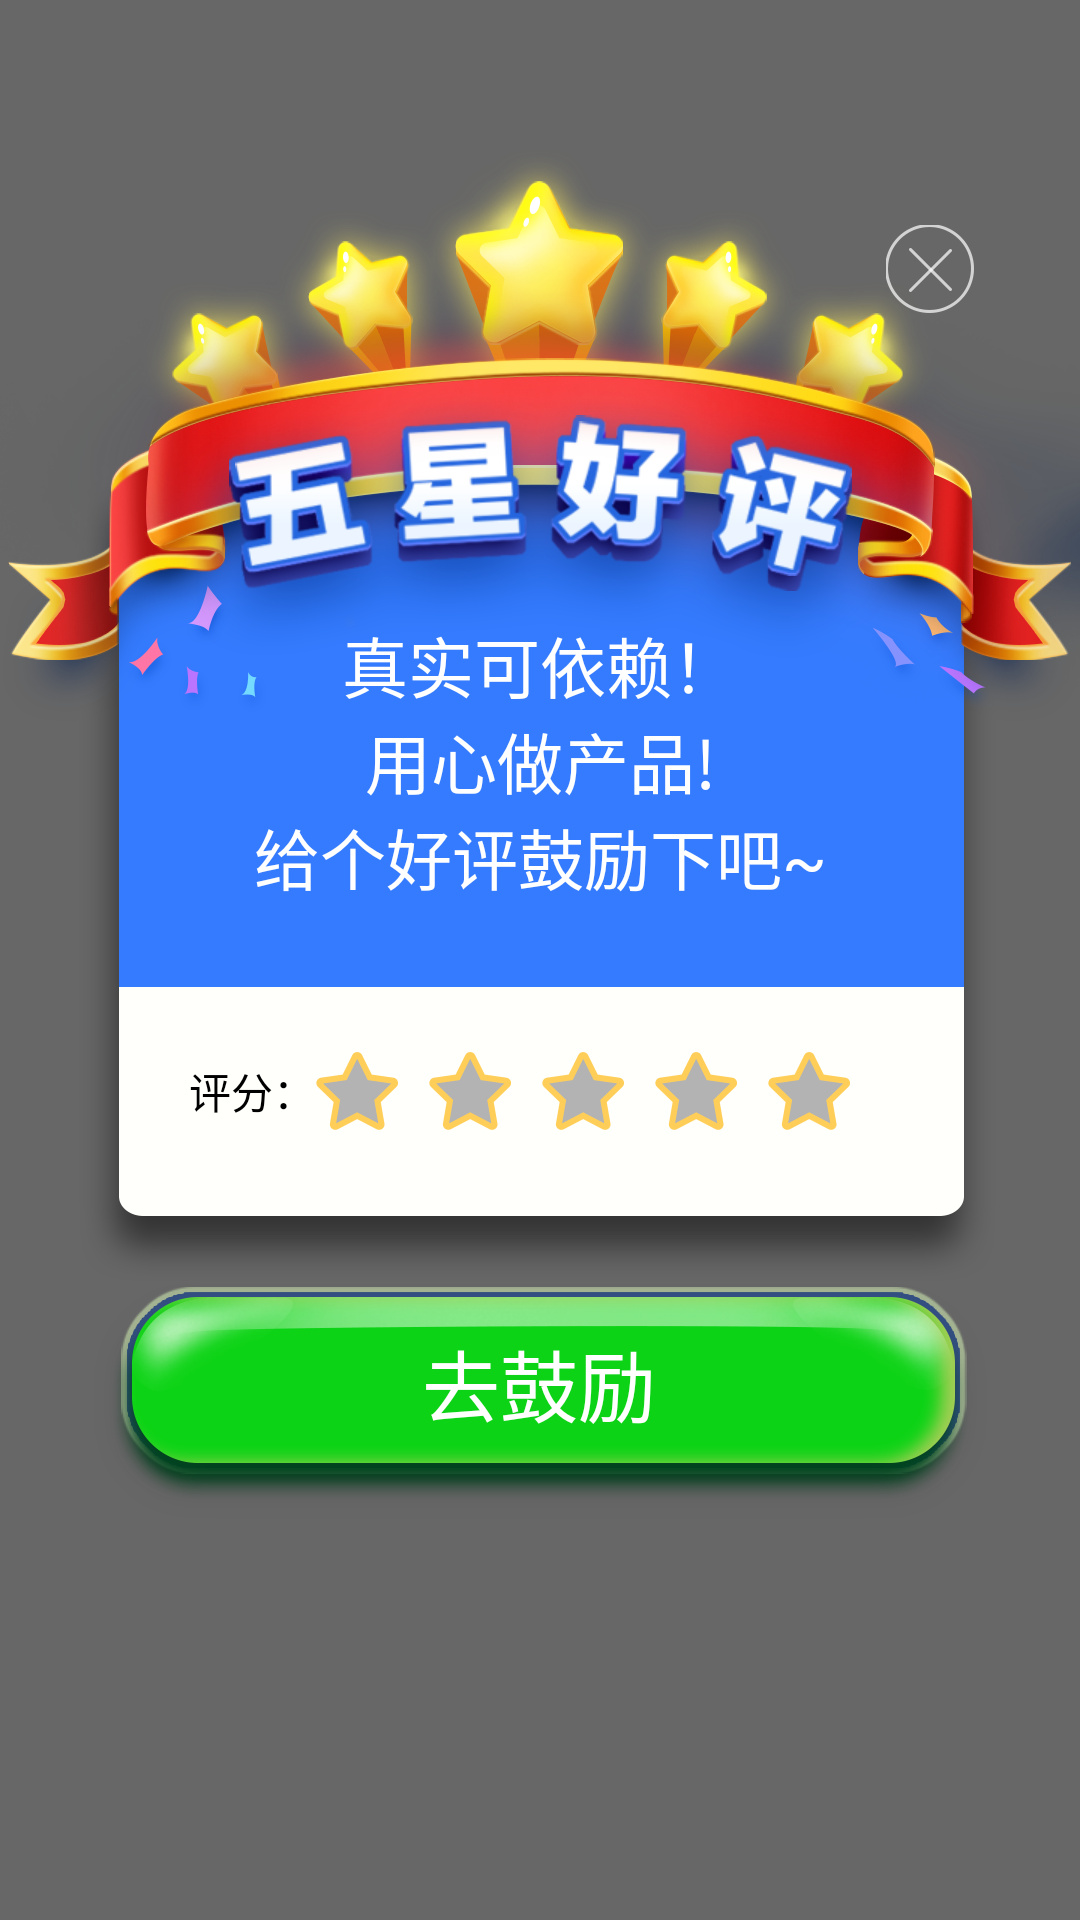

Named icons in this screenshot (1080×1920) and their centers, [x,y]:
close window: [930,269]
evaluation star empty: [357,1091], [470,1091], [583,1091], [696,1091], [809,1091]
